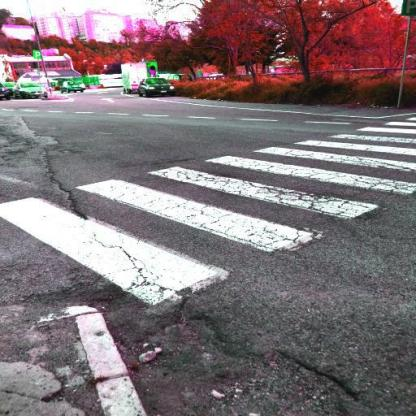crosswalk: (68, 160, 384, 262)
